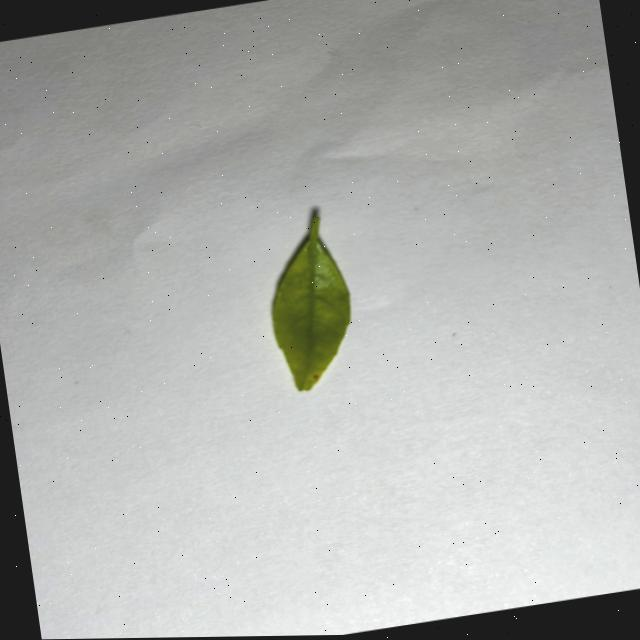greening: (273, 216, 350, 390)
